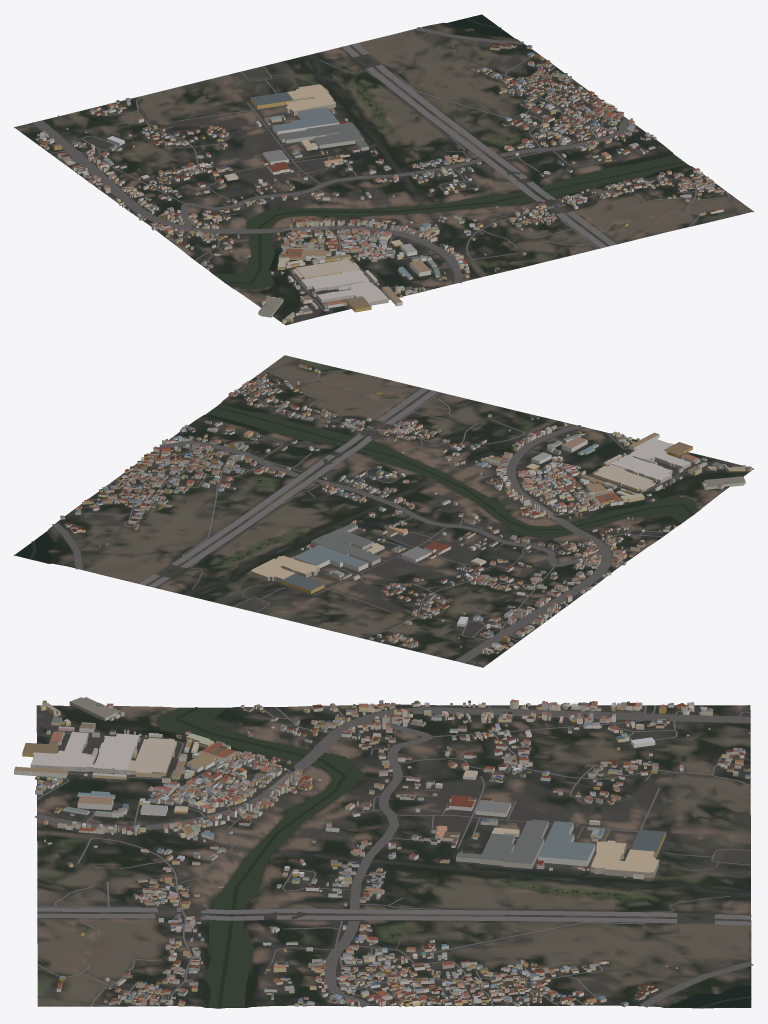
3 views of the same model, one above another, from view 1: azimuth 30°, elevation 25°; view 2: azimuth 150°, elevation 25°; view 3: azimuth 270°, elevation 25° (orthographic). The views are drawn at different scales.
Visible parts, largest first — view 1: ground, buildings, roads, water; view 2: ground, buildings, roads, water; view 3: ground, buildings, roads, water.
Part boxes in pixels (left/top/right/bottom): ground: left=14, top=17, right=753, bottom=325; buildings: left=35, top=43, right=724, bottom=323; roads: left=25, top=27, right=733, bottom=309; water: left=214, top=14, right=687, bottom=289; ground: left=14, top=355, right=753, bottom=667; buildings: left=60, top=363, right=751, bottom=656; roads: left=52, top=370, right=727, bottom=664; water: left=15, top=404, right=698, bottom=563; ground: left=36, top=704, right=751, bottom=1008; buildings: left=14, top=697, right=750, bottom=1007; roads: left=34, top=704, right=753, bottom=1007; water: left=157, top=707, right=751, bottom=1008.
Size of the model in its own units: 1430 by 27.26 by 1453.
